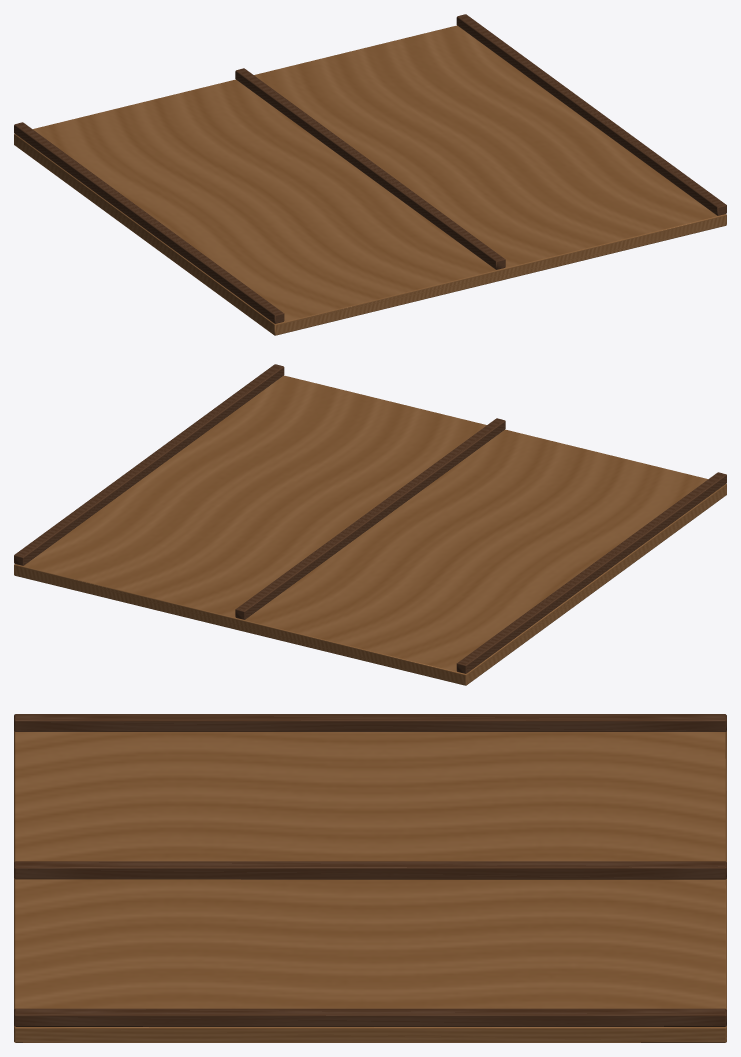
Rendered from ceiling.gltf.
3 renders of one model, top to bottom at view 1: azimuth 30°, elevation 25°; view 2: azimuth 150°, elevation 25°; view 3: azimuth 270°, elevation 25°, orthographic. The views are drawn at different scales.
Bounding box in the file's own units: 1.8 × 0.08 × 1.8.
Materials: 2 (2 with a texture image).
